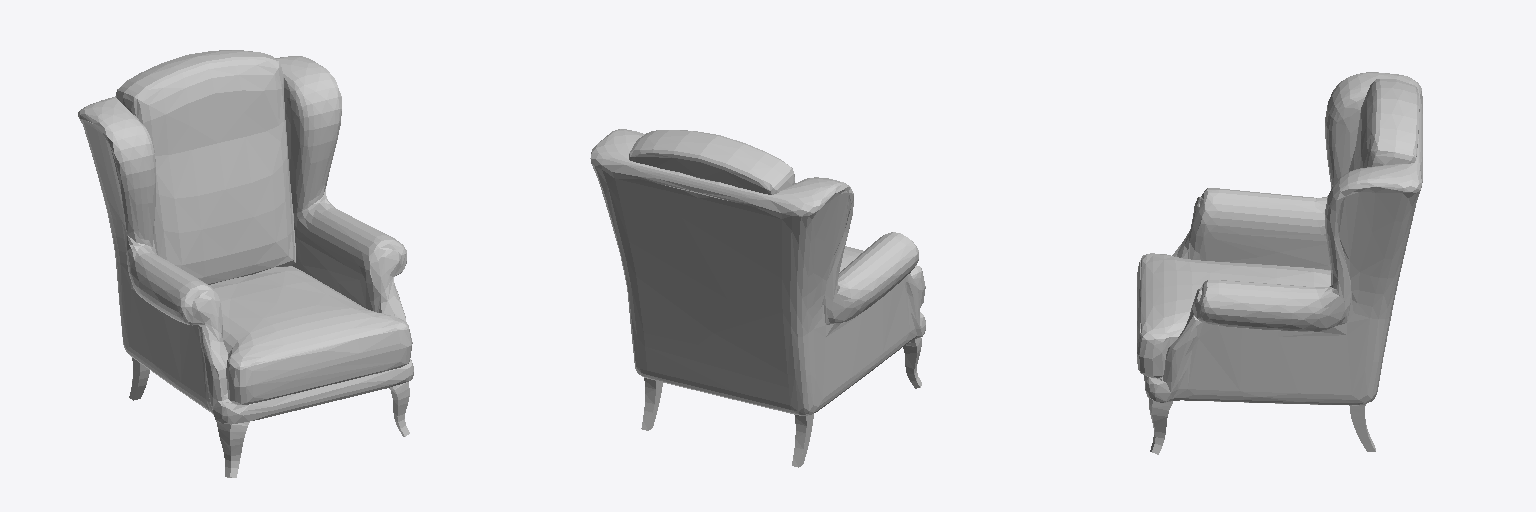
The model's file is chair0.obj.
3 renders of one model, left to right at view 1: azimuth 30°, elevation 25°; view 2: azimuth 150°, elevation 25°; view 3: azimuth 270°, elevation 25°, orthographic.
Visible parts, largest first — view 1: Armchair:null_; view 2: Armchair:null_; view 3: Armchair:null_.
Boxes of the visible parts, <box> form: Armchair:null_: <box>78,50,413,477</box>; Armchair:null_: <box>590,129,925,467</box>; Armchair:null_: <box>1137,72,1422,454</box>.
Bounding box in the file's own units: 0.3706 × 0.4851 × 0.4006.